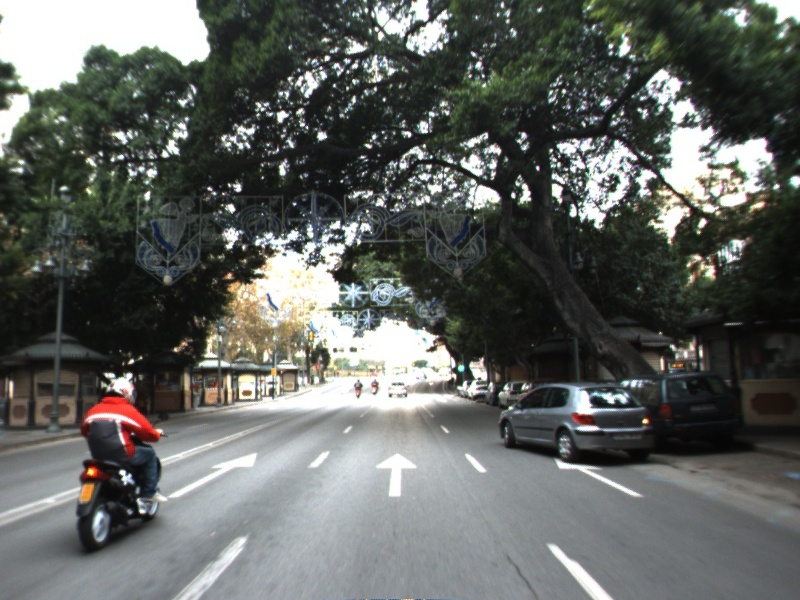STRAIGHT: (166, 450, 260, 500), (550, 454, 647, 499), (373, 450, 420, 499)
